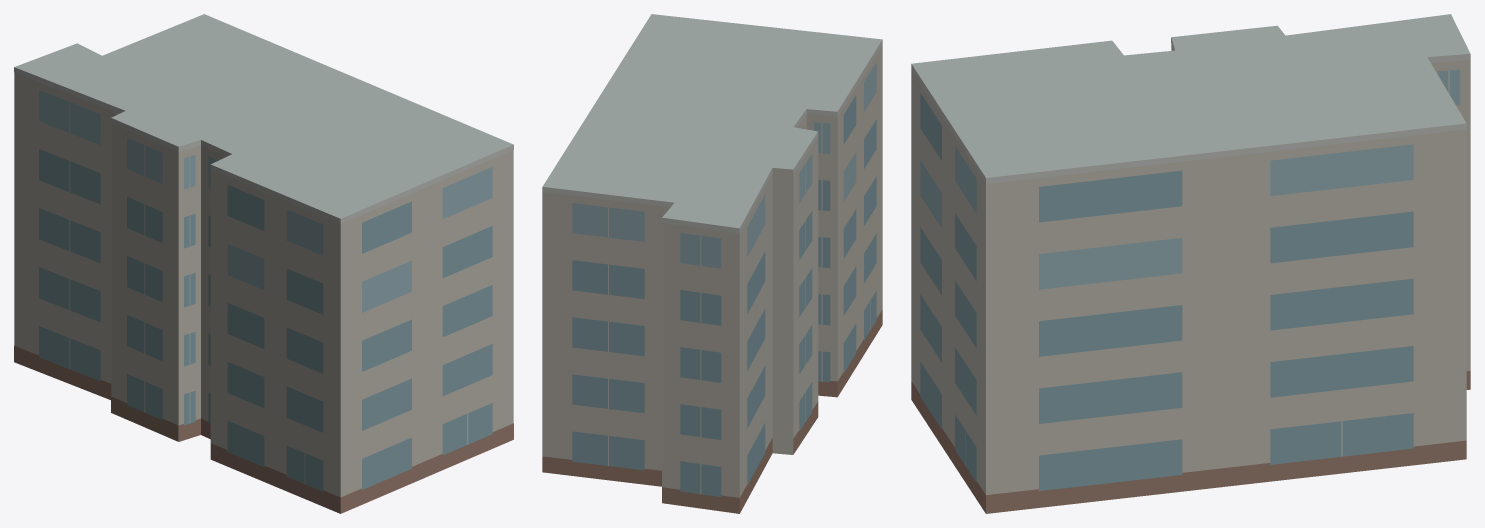
The model's file is survey-upis-32601703.glb.
3 views of the same model, side by side, from view 1: azimuth 30°, elevation 25°; view 2: azimuth 150°, elevation 25°; view 3: azimuth 270°, elevation 25° (orthographic). The views are drawn at different scales.
Visible parts, largest first — view 1: survey-upis-32601703.tmp; view 2: survey-upis-32601703.tmp; view 3: survey-upis-32601703.tmp.
Part boxes in pixels (bbox=[...]): survey-upis-32601703.tmp: bbox=[14, 14, 513, 513]; survey-upis-32601703.tmp: bbox=[542, 14, 882, 513]; survey-upis-32601703.tmp: bbox=[911, 14, 1470, 513].
Bounding box in the file's own units: 14.46 × 13.8 × 20.84.
